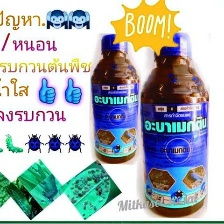insecticide: (138, 27, 212, 220), (89, 31, 142, 165)
